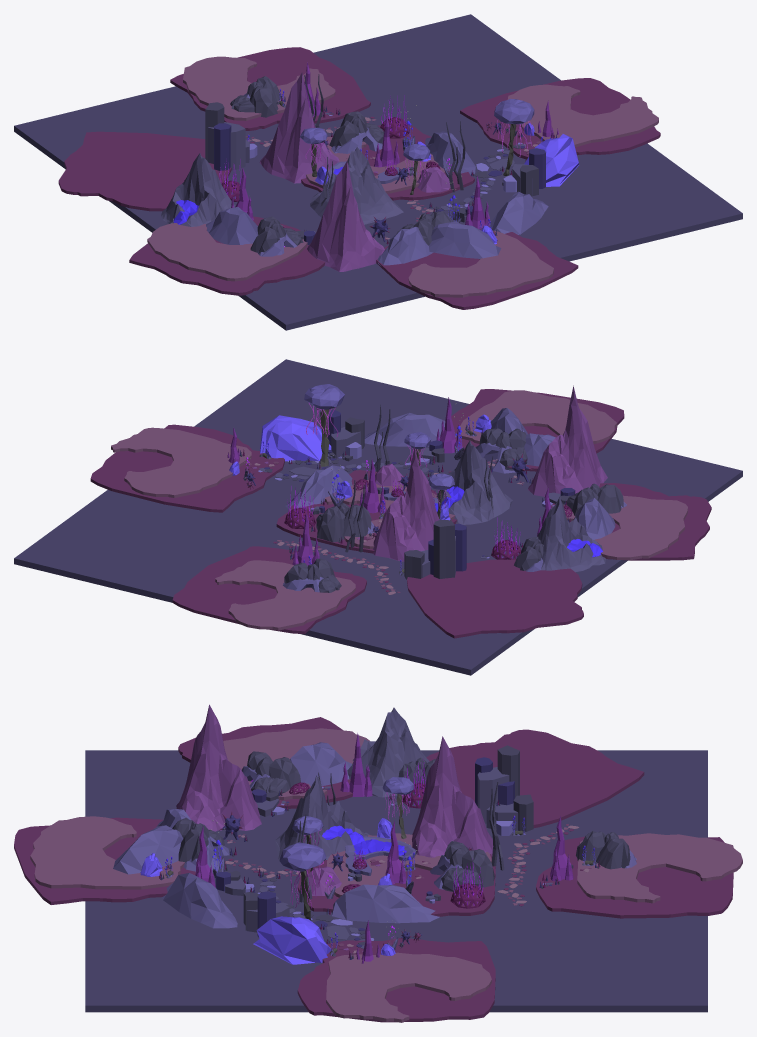
File: Violet_Landscape.fbx
3 views of the same model, one above another, from view 1: azimuth 30°, elevation 25°; view 2: azimuth 150°, elevation 25°; view 3: azimuth 270°, elevation 25° (orthographic). The views are drawn at different scales.
Parts seen in each view (by area): view 1: Ground_1, Ground_2_5, Ground_3_1, Ground_3_3, Ground_2_3, Ground_3_4, Ground_2_4, Landscape_2_1, Ground_3_2, Landscape_2, Ground_2_2, Ground_2_1 (+24 smaller); view 2: Ground_1, Ground_2_5, Ground_3_3, Ground_2_4, Ground_3_2, Ground_2_3, Ground_3_4, Landscape_2_1, Landscape_2, Stone_1, Ground_3_1, Landscape_1_2 (+26 smaller); view 3: Ground_1, Ground_2_5, Ground_3_3, Ground_3_1, Ground_2_3, Ground_2_4, Ground_3_2, Landscape_2_1, Stone_1, Landscape_2, Ground_2_1, Ground_3_4 (+30 smaller).
Boxes of the visible parts, x1,y1,x2,y2 form: Ground_1: (14,14,742,330); Ground_2_5: (58,131,231,211); Ground_3_1: (408,230,553,297); Ground_3_3: (507,84,658,147); Ground_2_3: (170,47,370,130); Ground_3_4: (147,223,307,281); Ground_2_4: (460,78,660,159); Landscape_2_1: (307,161,384,271); Ground_3_2: (183,56,335,120); Landscape_2: (259,72,339,183); Ground_2_2: (129,216,325,295); Ground_2_1: (376,226,578,309); Ground_1: (14,359,742,675); Ground_2_5: (407,559,583,638); Ground_3_3: (111,427,251,497); Ground_2_4: (90,424,284,512); Ground_3_2: (215,560,355,630); Ground_2_3: (172,546,366,634); Ground_3_4: (563,495,687,560); Landscape_2_1: (528,385,607,496); Landscape_2: (373,447,439,561); Stone_1: (292,440,575,579); Ground_3_1: (460,390,617,443); Landscape_1_2: (436,440,512,524); Ground_1: (85,750,707,1012); Ground_2_5: (426,729,644,827); Ground_3_3: (326,952,491,1022); Ground_3_1: (30,816,184,889); Ground_2_3: (536,834,733,918); Ground_2_4: (297,938,495,1022); Ground_3_2: (577,833,742,903); Landscape_2_1: (176,704,261,831); Stone_1: (215,745,573,903); Landscape_2: (412,736,493,857); Ground_2_1: (14,817,195,904); Ground_3_4: (223,728,369,800).
Size of the model in its own units: 2955 by 632 by 2976.
Materials: 1 (1 with a texture image).
